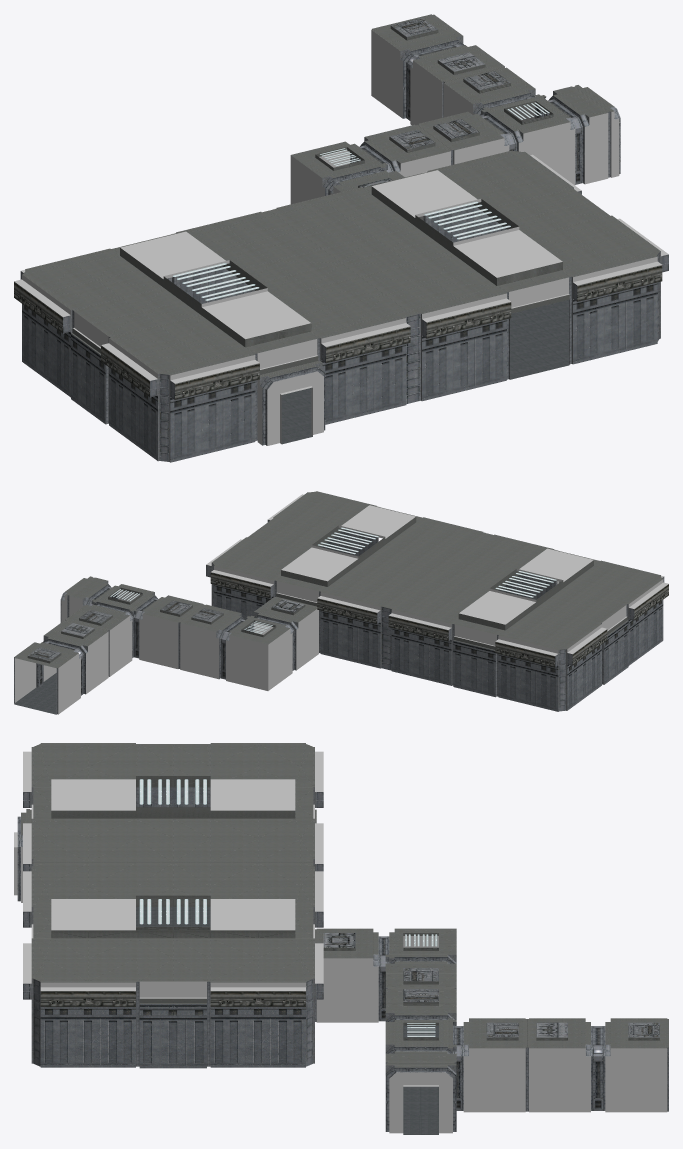
The model's file is poi_all_impl_bunker_imperial_prison_s01_r14_guard02_mesh_r14.fbx.
3 renders of one model, top to bottom at view 1: azimuth 30°, elevation 25°; view 2: azimuth 150°, elevation 25°; view 3: azimuth 270°, elevation 25°, orthographic. The views are drawn at different scales.
Parts seen in each view (by area): view 1: mesh_node; view 2: mesh_node; view 3: mesh_node.
Boxes of the visible parts, x1=… form: mesh_node: x1=14, y1=14, x2=668, y2=462; mesh_node: x1=14, y1=491, x2=668, y2=714; mesh_node: x1=14, y1=743, x2=668, y2=1134.
Bounding box in the file's own units: 41.5 × 6 × 37.
